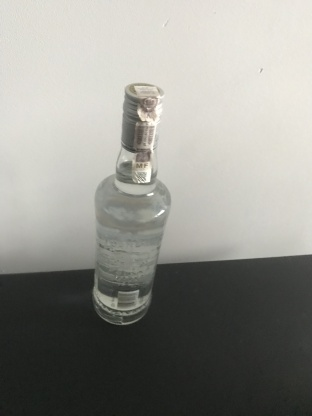nakretka: (119, 80, 165, 154)
